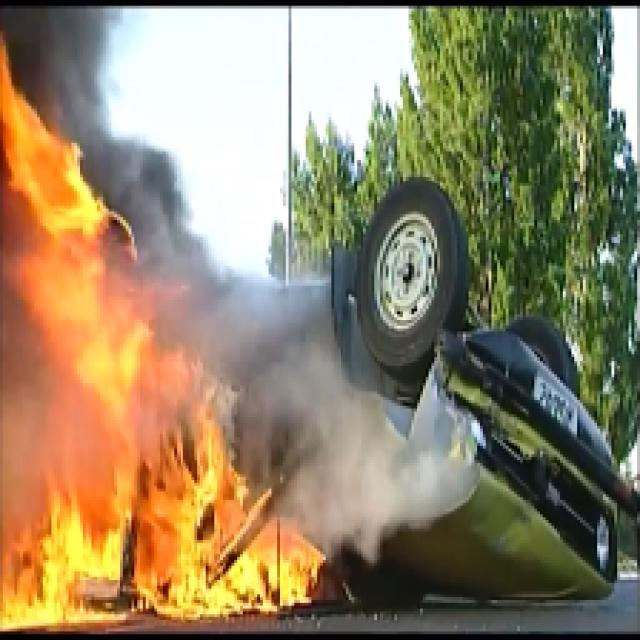fire: (11, 126, 92, 617), (93, 378, 243, 600)
smoke: (251, 371, 421, 528), (163, 274, 303, 371)
